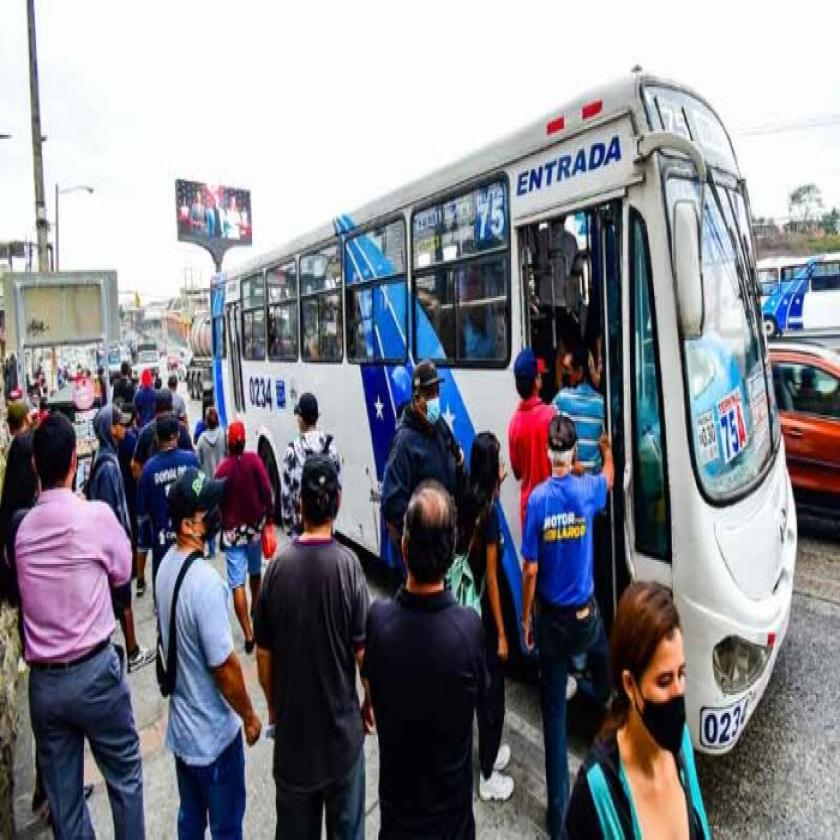Sin_casco: (606, 577, 696, 758), (394, 478, 457, 580), (168, 468, 230, 545), (26, 413, 83, 496), (302, 453, 346, 535), (472, 427, 509, 495), (544, 416, 582, 480), (410, 359, 447, 423), (90, 399, 132, 453), (512, 349, 546, 403), (293, 392, 324, 443), (156, 416, 185, 462), (224, 416, 248, 460), (202, 402, 220, 433)
